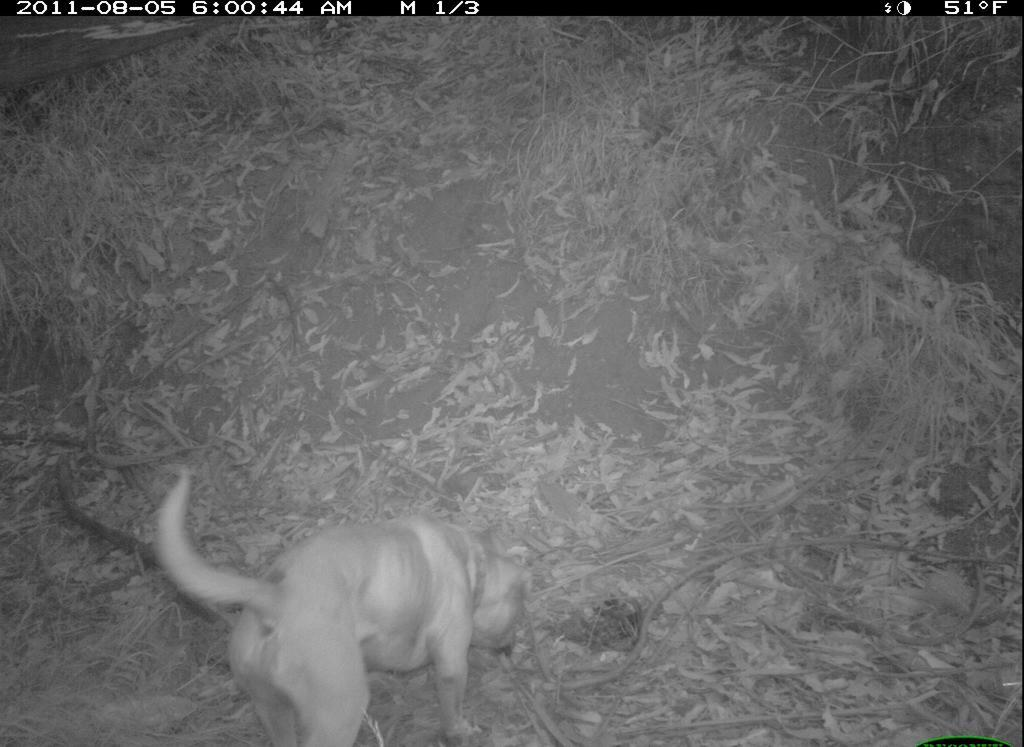dog: (116, 420, 599, 747)
